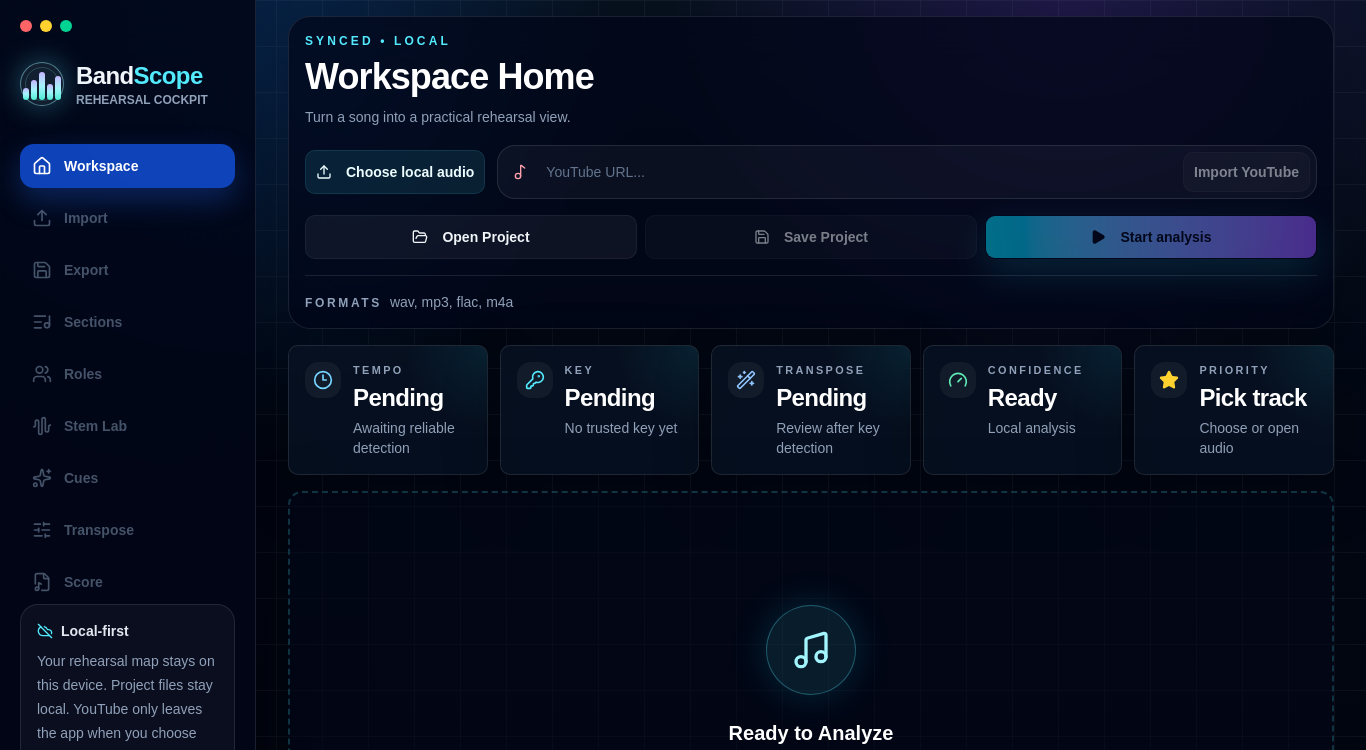
it: App › renders the loaded song as a dark rehearsal command board
The width and height of the screenshot is (1366, 750).
Click the button "Open Project".
click(471, 237)  # box [305,215,637,259]
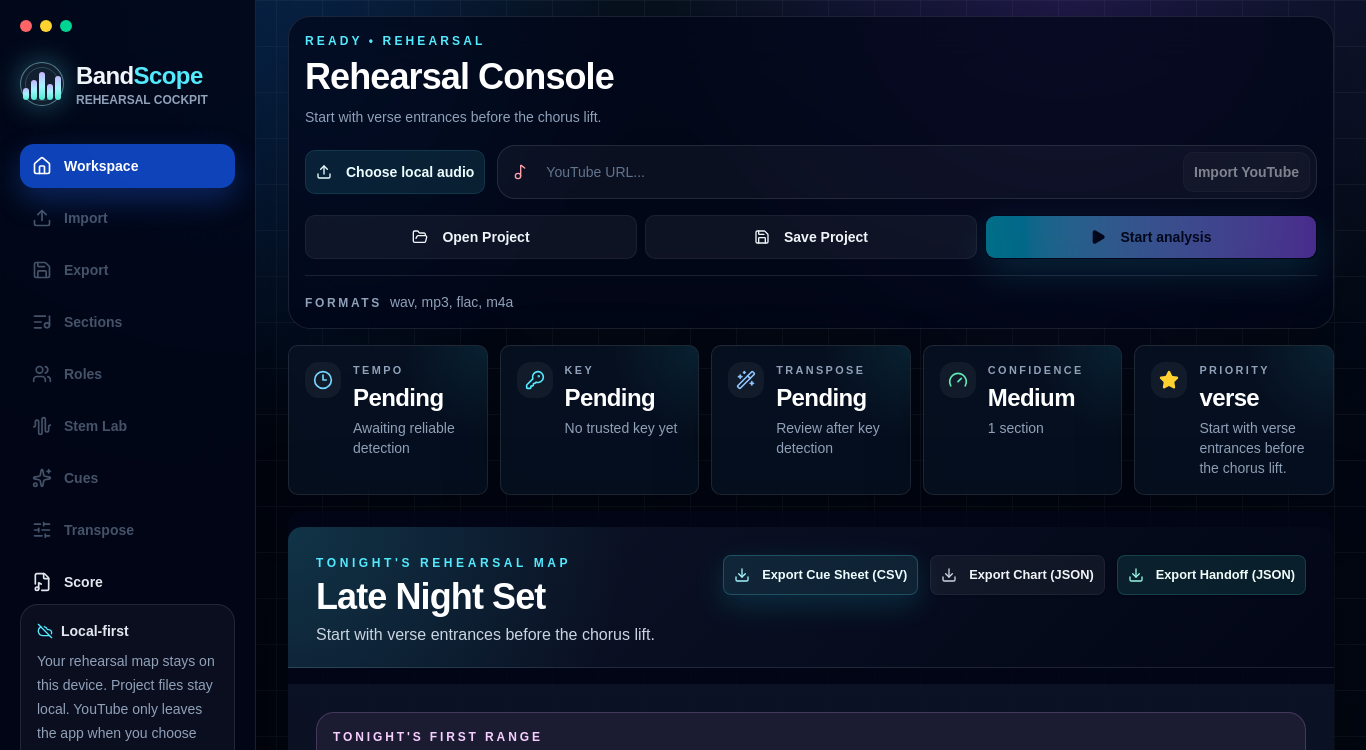
Check: the button "Export Cue Sheet (CSV)" is shown, box [723,555,918,595]
